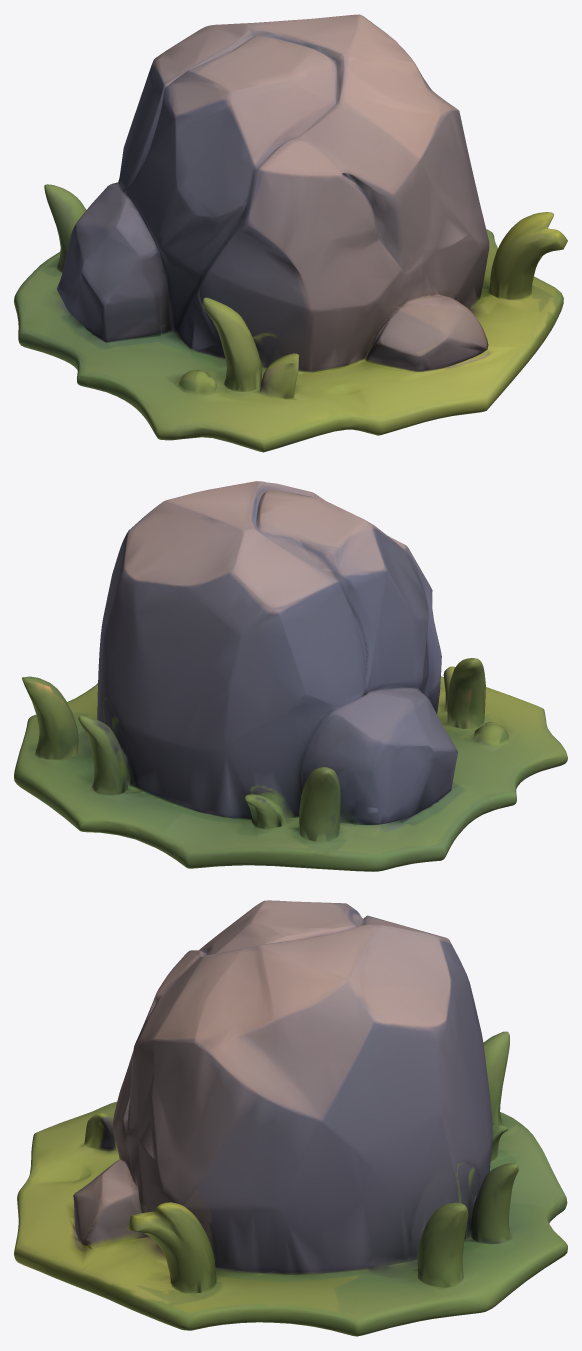
The model's file is rock3.fbx.
The picture shows the model from 3 angles, top to bottom: view 1: azimuth 30°, elevation 25°; view 2: azimuth 150°, elevation 25°; view 3: azimuth 270°, elevation 25°; orthographic projection. The views are drawn at different scales.
Parts seen in each view (by area): view 1: node_0.002; view 2: node_0.002; view 3: node_0.002.
Part boxes in pixels (left/top/right/bottom): node_0.002: left=14, top=14, right=567, bottom=452; node_0.002: left=14, top=481, right=567, bottom=871; node_0.002: left=14, top=900, right=567, bottom=1336.
Bounding box in the file's own units: 0.4058 × 0.2379 × 0.3943.
Materials: 1 (1 with a texture image).
